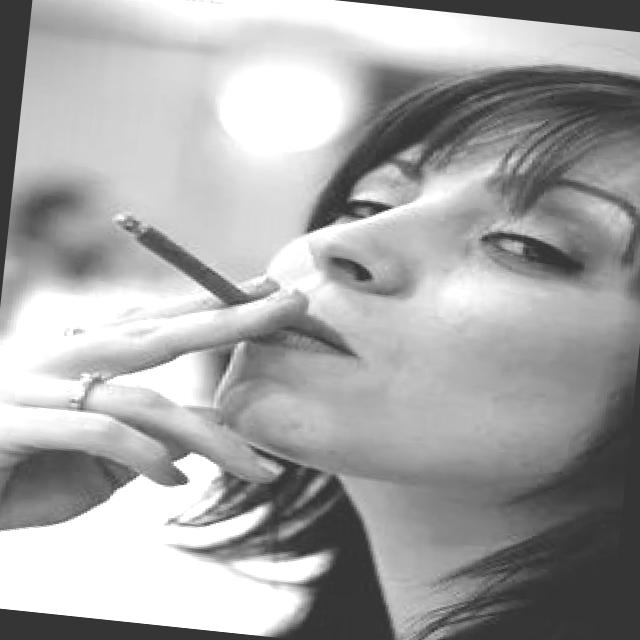cigarette: (98, 207, 272, 314)
